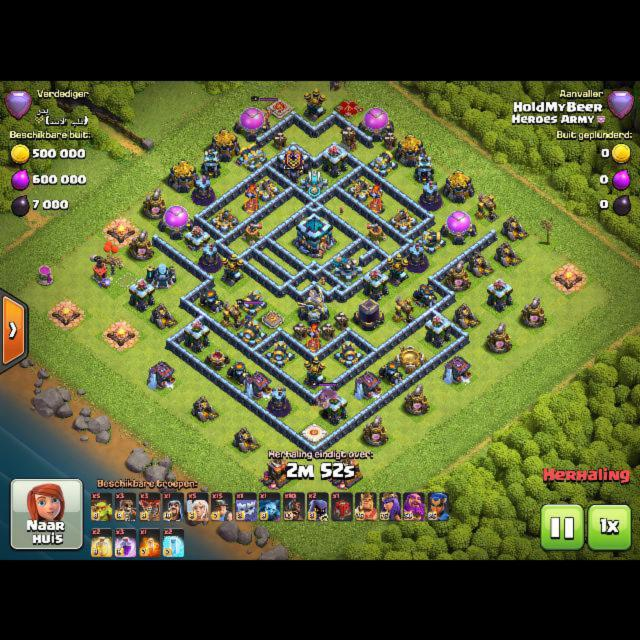AD: (303, 87, 326, 121), (303, 355, 326, 389), (386, 252, 409, 286), (221, 252, 244, 286)
AirSweeper: (242, 222, 263, 246), (366, 223, 387, 246)
BombTower: (415, 152, 433, 183), (202, 147, 220, 177)
Canon: (237, 142, 267, 171), (237, 319, 267, 347), (333, 339, 363, 367), (264, 340, 294, 367), (368, 149, 398, 176), (237, 289, 267, 316), (416, 229, 446, 254)
ClanCastle: (276, 143, 310, 182)
Eagle: (297, 286, 329, 326)
Inferno: (304, 322, 322, 352), (366, 183, 384, 213), (242, 184, 260, 213)
KingPad: (266, 97, 292, 117)
Mortar: (225, 359, 251, 385), (198, 288, 224, 314), (378, 360, 403, 386), (412, 283, 437, 308)
QueenPad: (334, 97, 362, 118)
RcPad: (261, 310, 283, 327)
Scattershot: (332, 255, 362, 283), (300, 168, 329, 196)
TH13: (296, 211, 333, 258)
WardenPad: (302, 423, 326, 441)
WizzTower: (268, 386, 290, 417), (192, 174, 214, 205), (419, 180, 441, 210), (199, 241, 221, 271), (405, 242, 427, 272)
Xbow: (209, 206, 239, 232), (388, 207, 418, 232), (252, 177, 281, 201), (347, 177, 376, 201)
